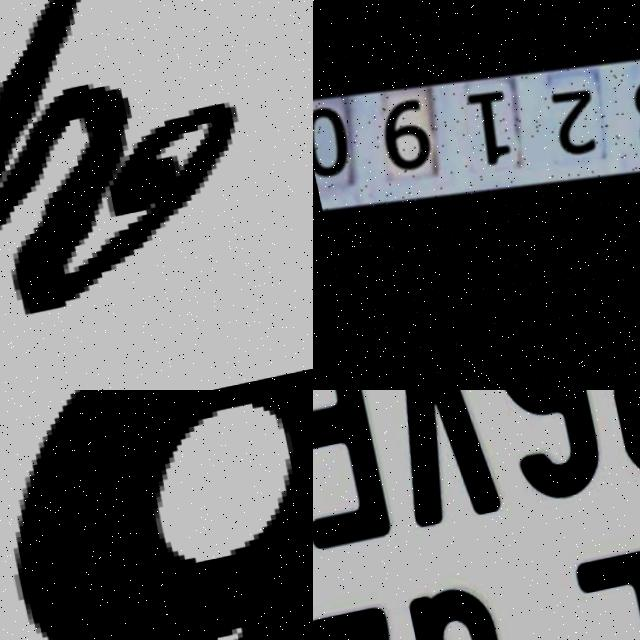0: (313, 97, 360, 189)
1: (456, 82, 529, 181)
2: (541, 82, 609, 174)
3: (620, 68, 640, 169)
6: (0, 390, 313, 640), (475, 390, 604, 509)
9: (370, 91, 442, 183)
E: (313, 390, 389, 552), (569, 544, 640, 640)
G: (396, 582, 528, 640)
V: (363, 390, 503, 534)
Y: (0, 0, 313, 382)
